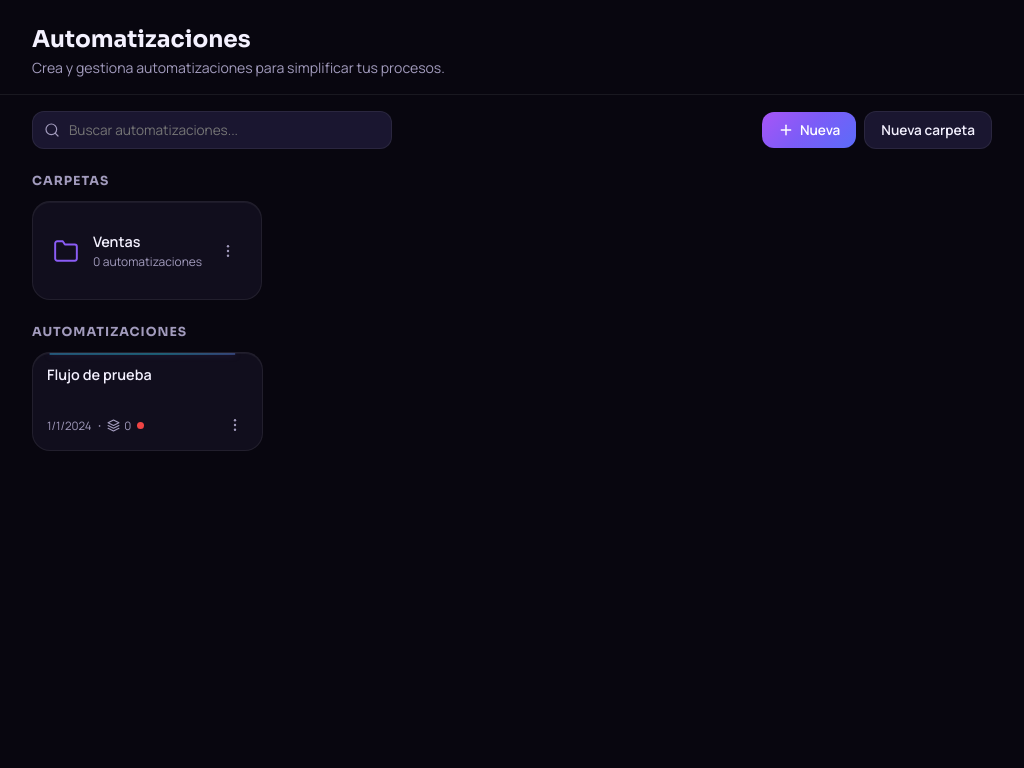
Renombrar cambia el nombre de la carpeta › renombrar no abre la carpeta
Expected: the text "Ventas" is shown, [93,232,140,251]
Click the button named "Acciones para Ventas": {"x": 228, "y": 251} [214,238,240,264]
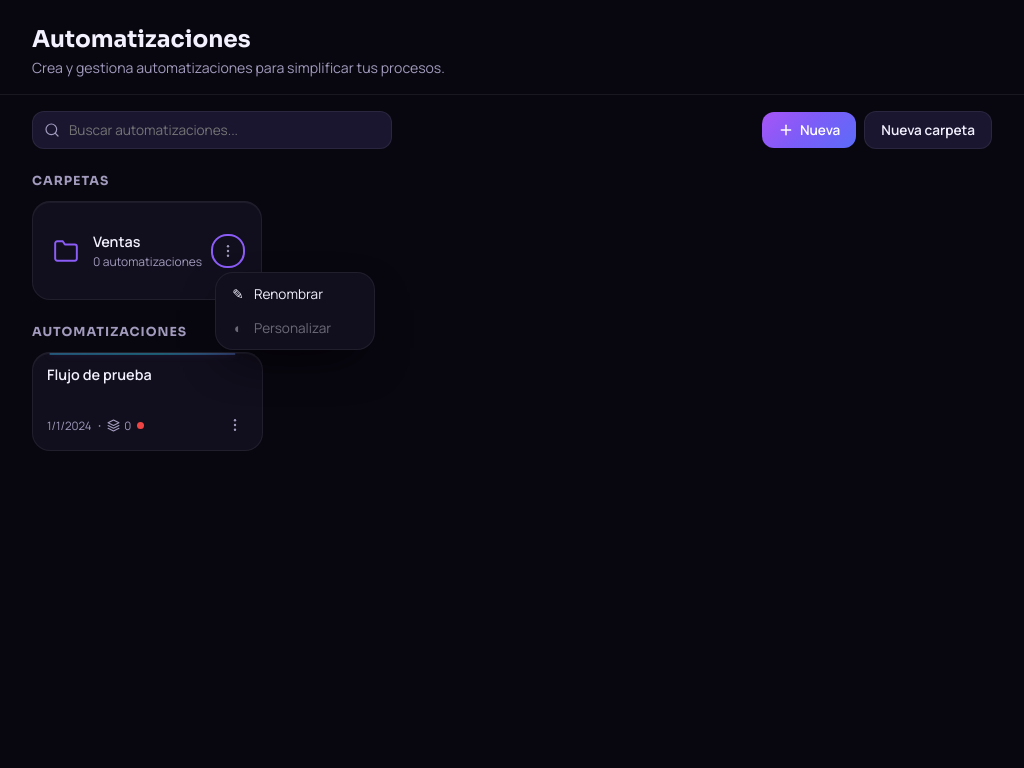
Click the menu item "✎ Renombrar": {"x": 295, "y": 294} [216,277,374,311]
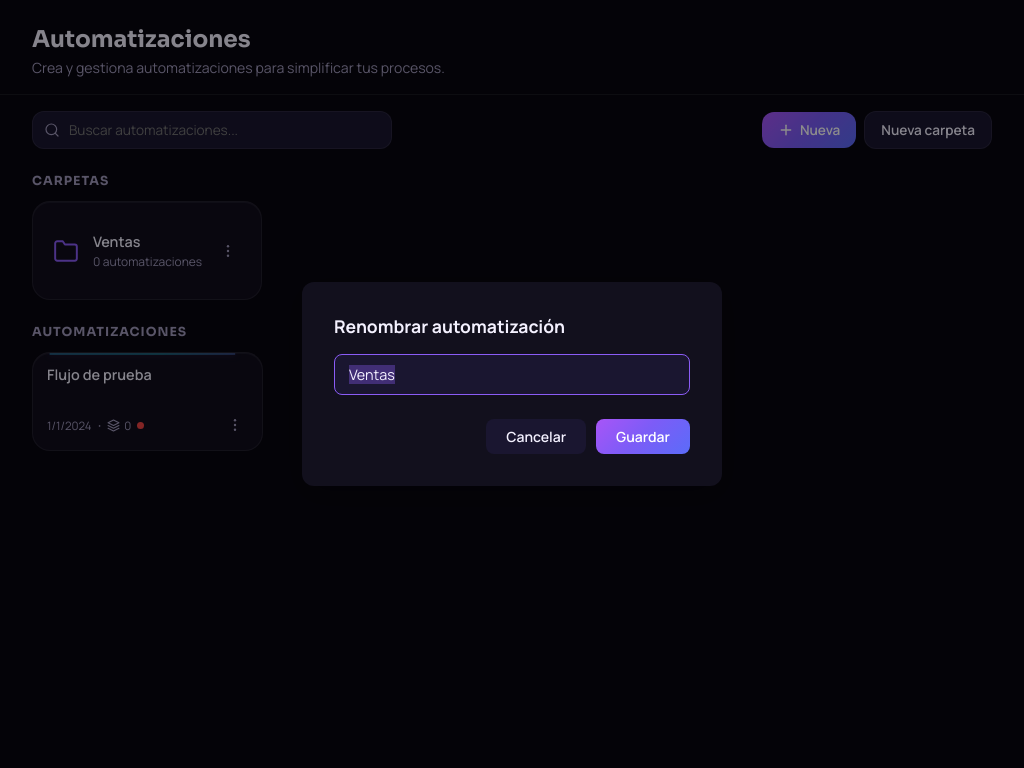
Replace the text in the field showing "Ventas" with "Otro nombre": {"x": 512, "y": 374} [334,354,690,395]
Then press Enter
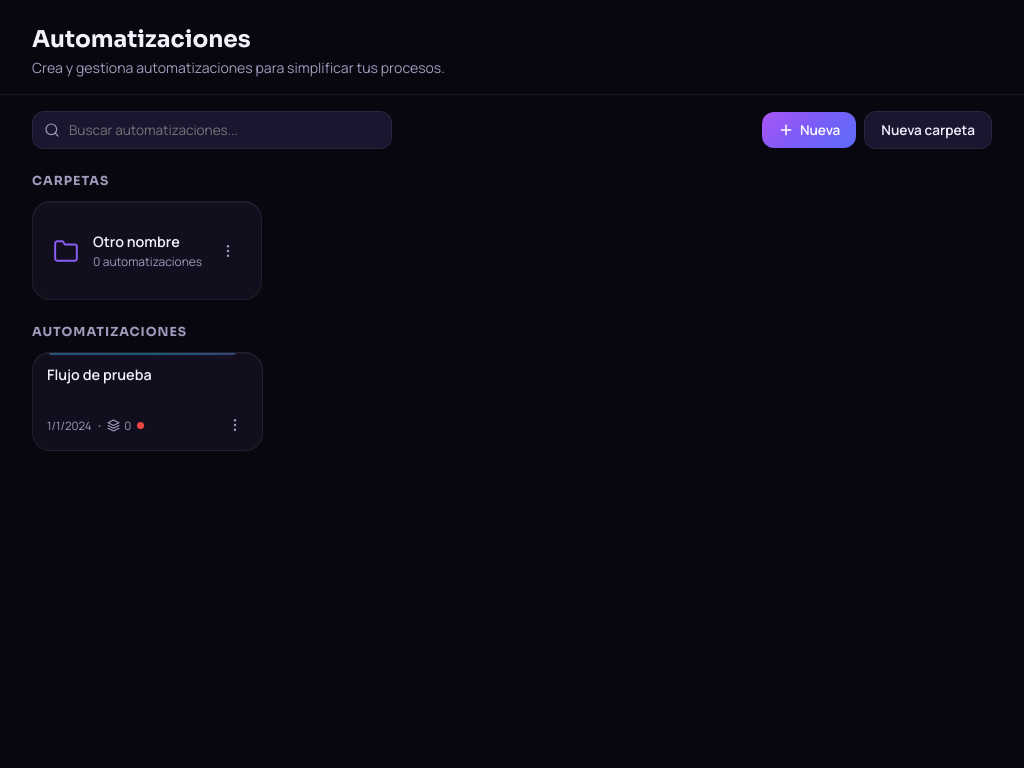
Now the text "Otro nombre" is shown, box [93,232,180,251]
